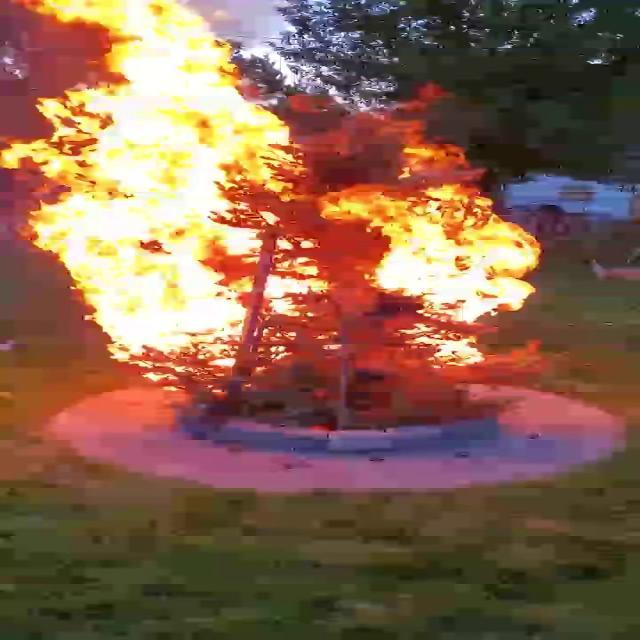Fire: (2, 0, 568, 382)
